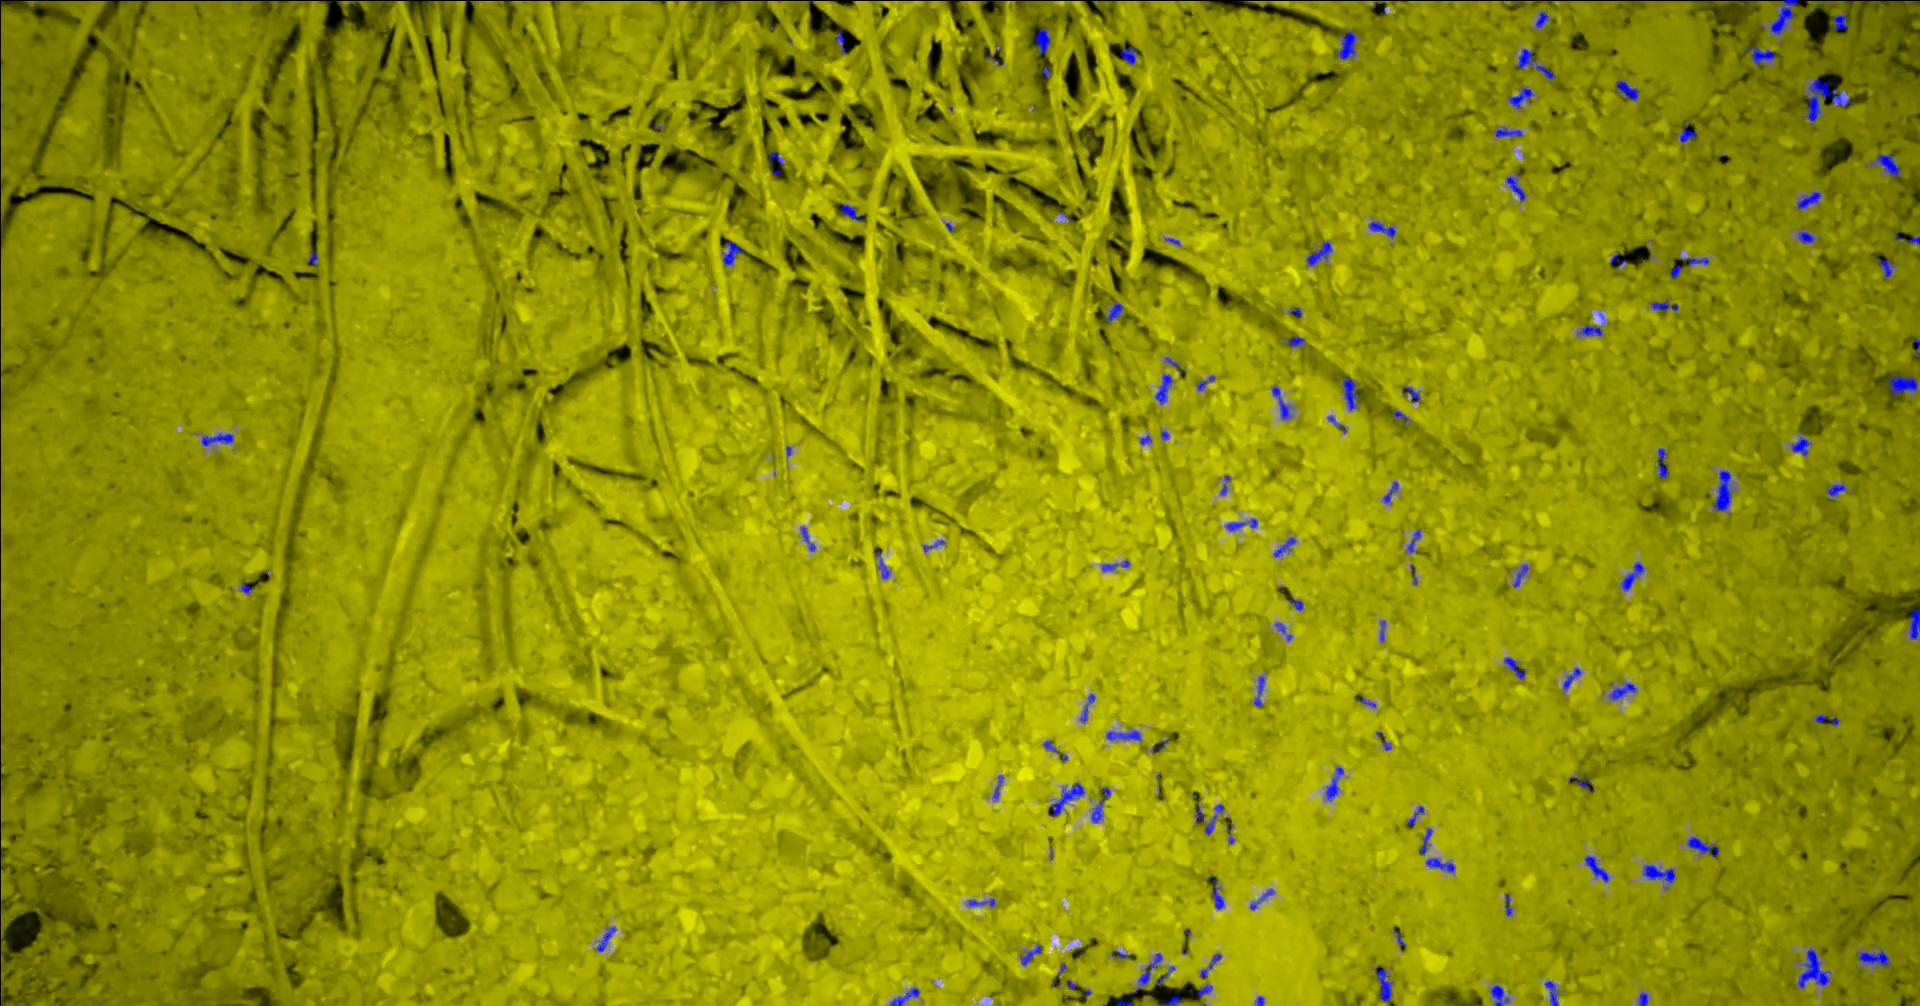ant: (1803, 77, 1850, 121), (1797, 948, 1829, 988), (1131, 953, 1162, 993), (1048, 782, 1084, 815), (1516, 48, 1554, 79), (1769, 0, 1797, 34), (1713, 470, 1732, 511), (1870, 152, 1900, 178), (1686, 836, 1719, 857), (1887, 373, 1919, 395), (1305, 240, 1332, 265), (1620, 561, 1644, 589), (1324, 766, 1343, 800), (1583, 855, 1608, 882), (1335, 30, 1357, 58), (1271, 386, 1290, 419), (1857, 948, 1890, 967), (1204, 803, 1223, 835), (1642, 864, 1674, 883), (1199, 953, 1222, 978), (1374, 967, 1390, 1001), (1743, 46, 1775, 64), (1341, 377, 1359, 409), (1509, 86, 1533, 109), (721, 240, 743, 265), (889, 987, 919, 1005), (1505, 173, 1524, 201), (1503, 655, 1525, 680), (1154, 373, 1172, 403), (1609, 681, 1636, 700), (1615, 79, 1638, 100), (1250, 888, 1272, 909), (1018, 944, 1041, 965), (1796, 191, 1821, 210), (1272, 537, 1295, 558), (1425, 857, 1455, 873), (1034, 27, 1050, 55), (1368, 221, 1396, 238), (1078, 694, 1095, 721), (1209, 876, 1223, 909), (596, 927, 615, 951), (872, 551, 889, 578), (799, 526, 815, 551), (1790, 433, 1810, 455), (1562, 667, 1581, 688), (201, 432, 232, 445), (1568, 775, 1592, 791), (1490, 984, 1509, 1005), (841, 203, 862, 221), (1418, 827, 1432, 854), (1512, 563, 1528, 587), (1225, 518, 1257, 530), (1679, 122, 1697, 142), (1406, 805, 1423, 826), (1382, 481, 1398, 503), (1877, 257, 1892, 279), (1657, 447, 1669, 478), (1106, 730, 1140, 741), (1544, 981, 1558, 1005), (1253, 676, 1263, 708), (1090, 796, 1102, 822), (1495, 126, 1523, 137), (1650, 300, 1677, 311), (1101, 560, 1129, 572), (1119, 46, 1137, 64), (1105, 304, 1123, 321), (1909, 608, 1919, 639), (1895, 232, 1919, 245), (1578, 324, 1603, 337), (1407, 528, 1420, 553), (1815, 714, 1839, 725), (1196, 375, 1214, 390), (240, 579, 259, 593), (1825, 483, 1845, 495), (1832, 13, 1848, 29), (1402, 386, 1418, 401), (1680, 257, 1708, 265), (966, 897, 994, 906), (1609, 251, 1625, 265), (836, 32, 846, 53), (767, 151, 783, 164), (1797, 231, 1815, 243), (1535, 11, 1548, 27), (1285, 335, 1304, 345), (1196, 983, 1211, 996), (1161, 995, 1178, 1005), (1669, 264, 1681, 278), (1503, 894, 1511, 915), (1638, 991, 1647, 1005), (1843, 0, 1919, 1)
